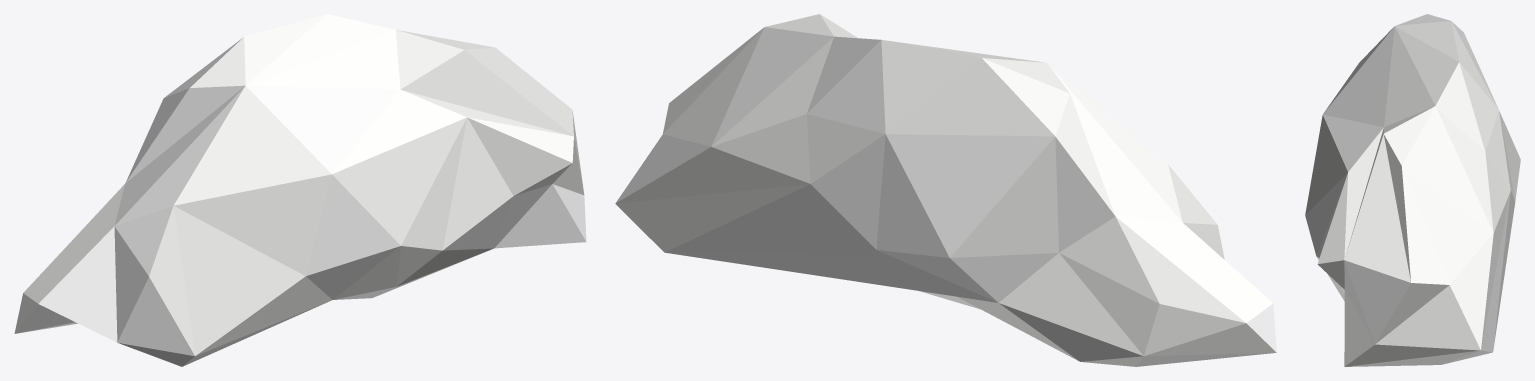
Rendered from Cloud_v12.fbx.
3 renders of one model, left to right at view 1: azimuth 30°, elevation 25°; view 2: azimuth 150°, elevation 25°; view 3: azimuth 270°, elevation 25°, orthographic. The views are drawn at different scales.
Parts seen in each view (by area): view 1: Cloud_v12; view 2: Cloud_v12; view 3: Cloud_v12.
Part boxes in pixels (x1,y1,x2,y2): Cloud_v12: (14, 14, 586, 366); Cloud_v12: (615, 14, 1276, 366); Cloud_v12: (1305, 14, 1520, 366).
Size of the model in its own units: 43.11 by 18.16 by 15.25.
Materials: 1 (1 with a texture image).
